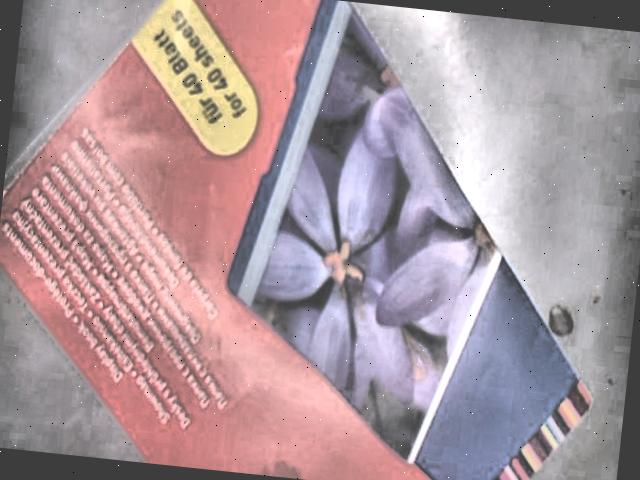Paper: (0, 0, 598, 480)
